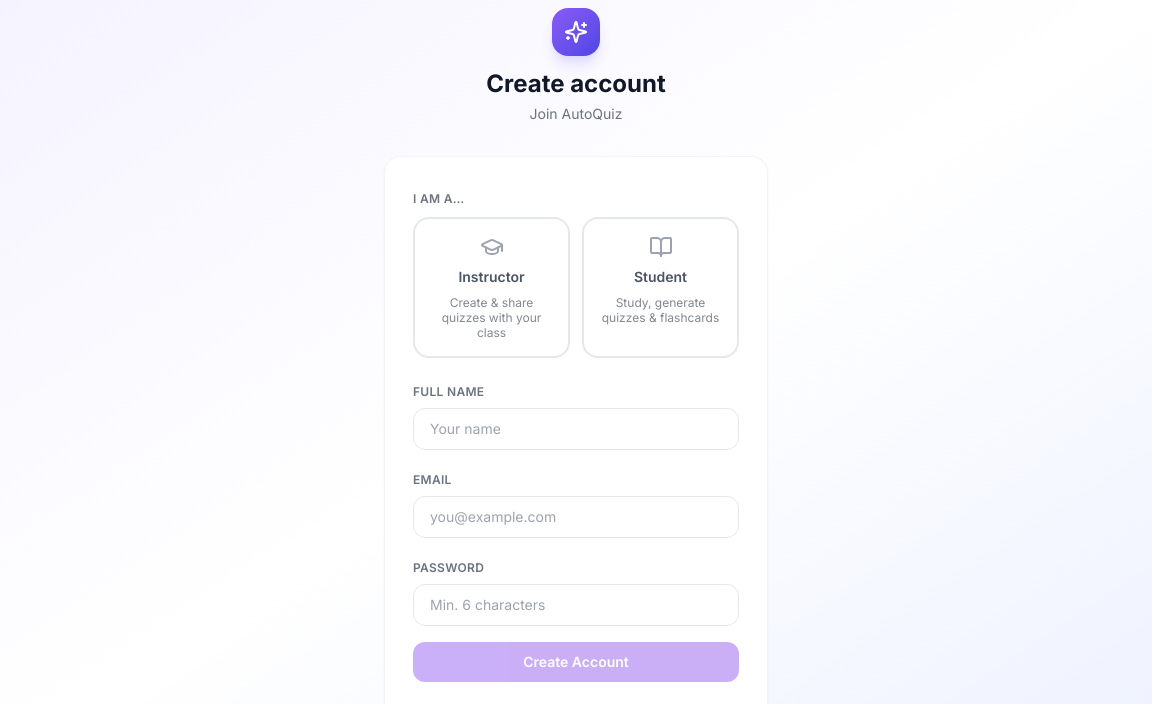
Scenario: Register › AC-1.1.4: displays error message when email is already registered
Click the button "Instructor Create & share quizzes with your class": (492, 288) [413,217,570,358]
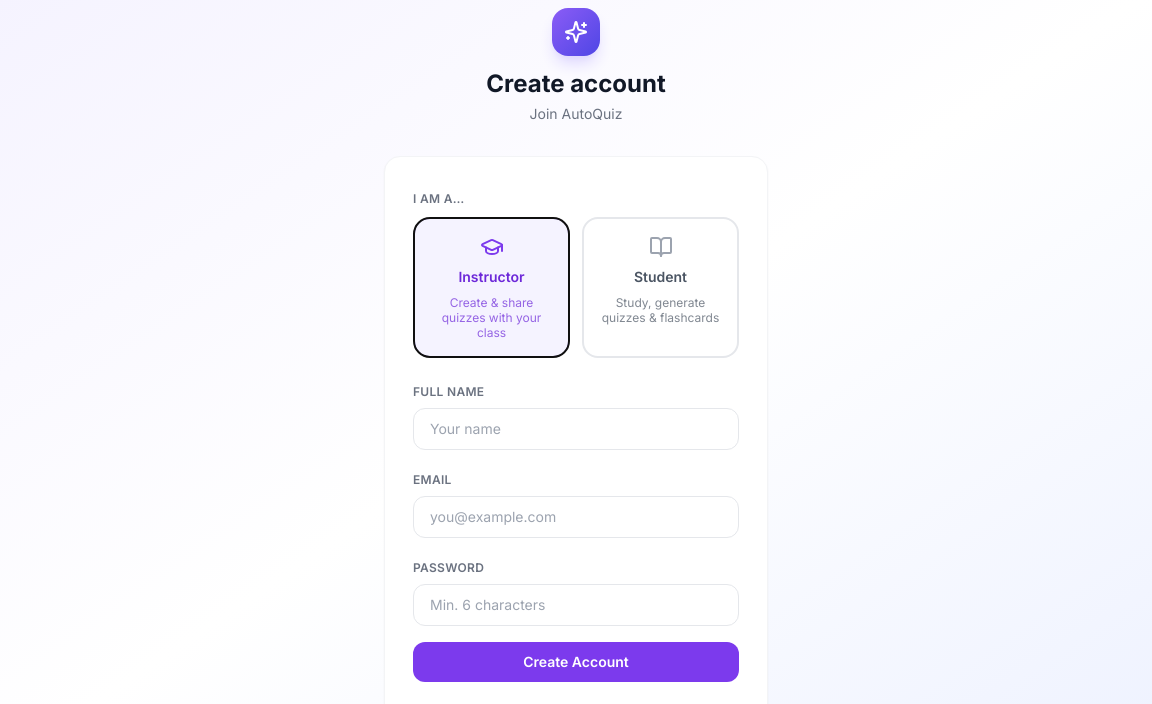
In the field with placeholder "Your name": (576, 429) [413,408,739,450], type "Test User"
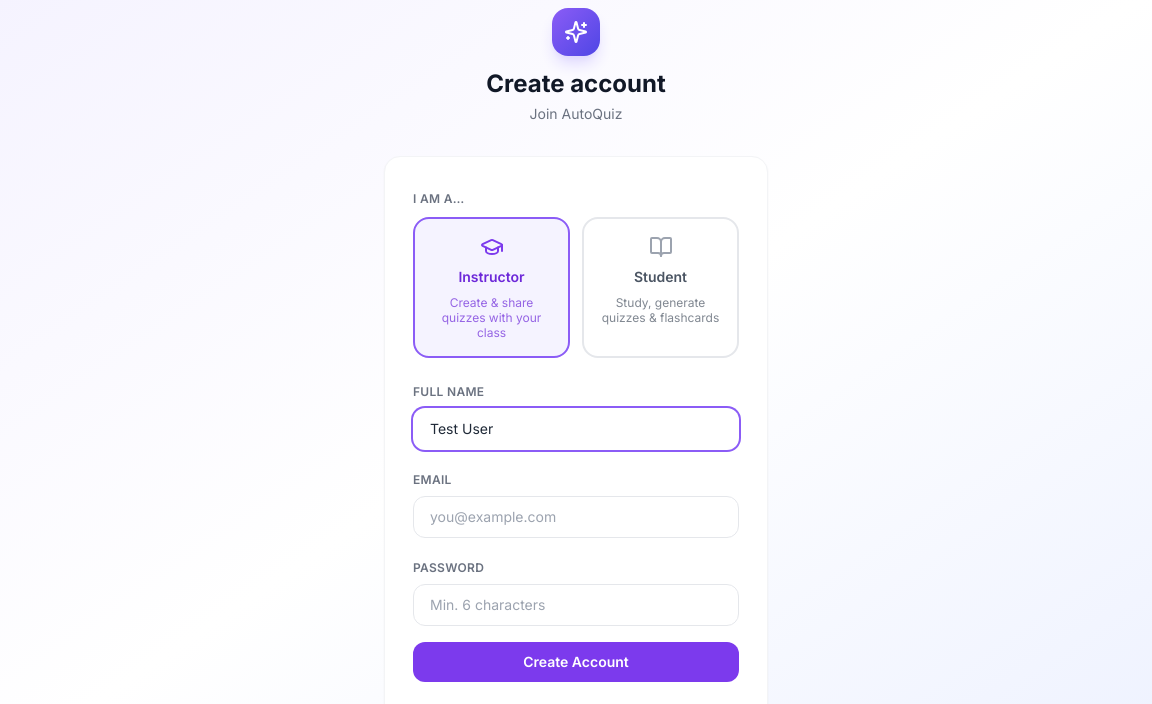
In the field with placeholder "you@example.com": (576, 517) [413,496,739,538], type "existing@example.com"
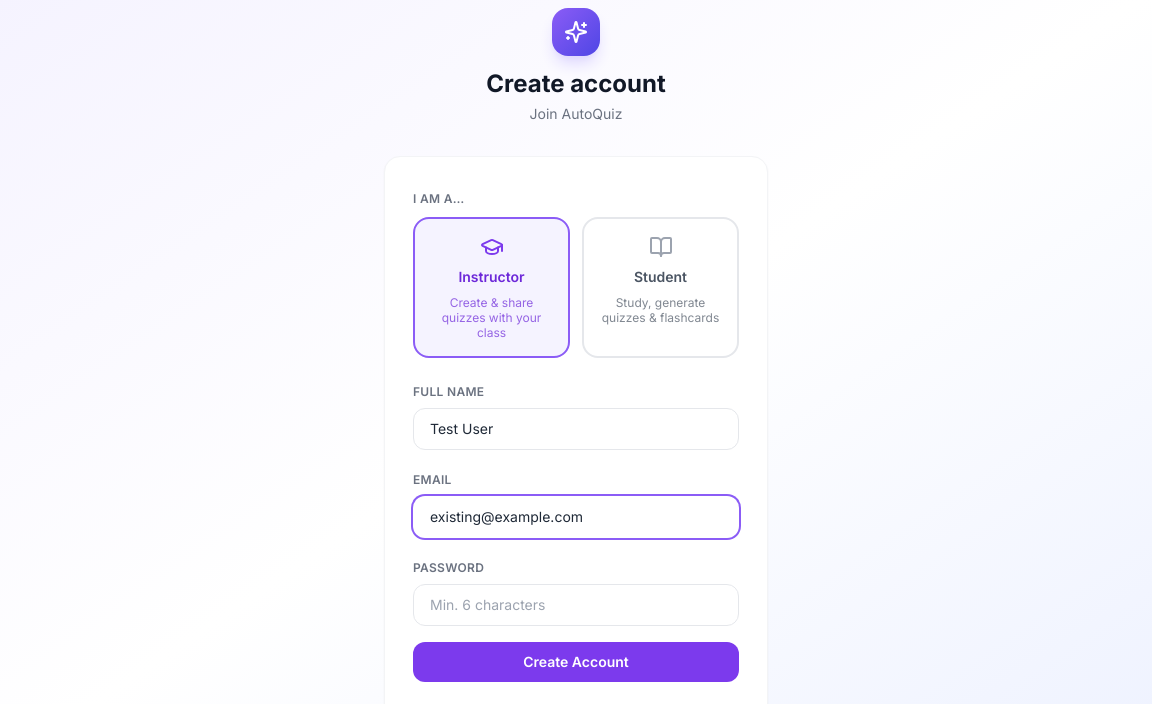
In the password field with placeholder "Min. 6 characters": (576, 605) [413,584,739,626], type "password123"
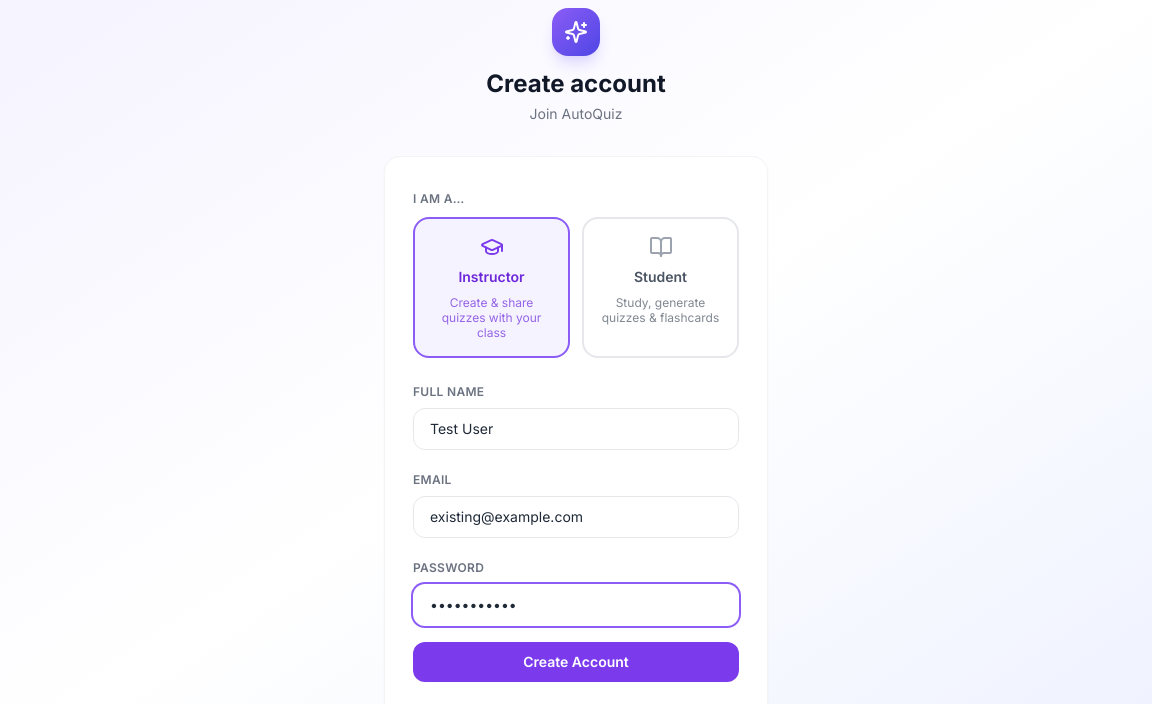
Click the button "Create Account": (576, 662) [413,642,739,682]
(page scrolled)
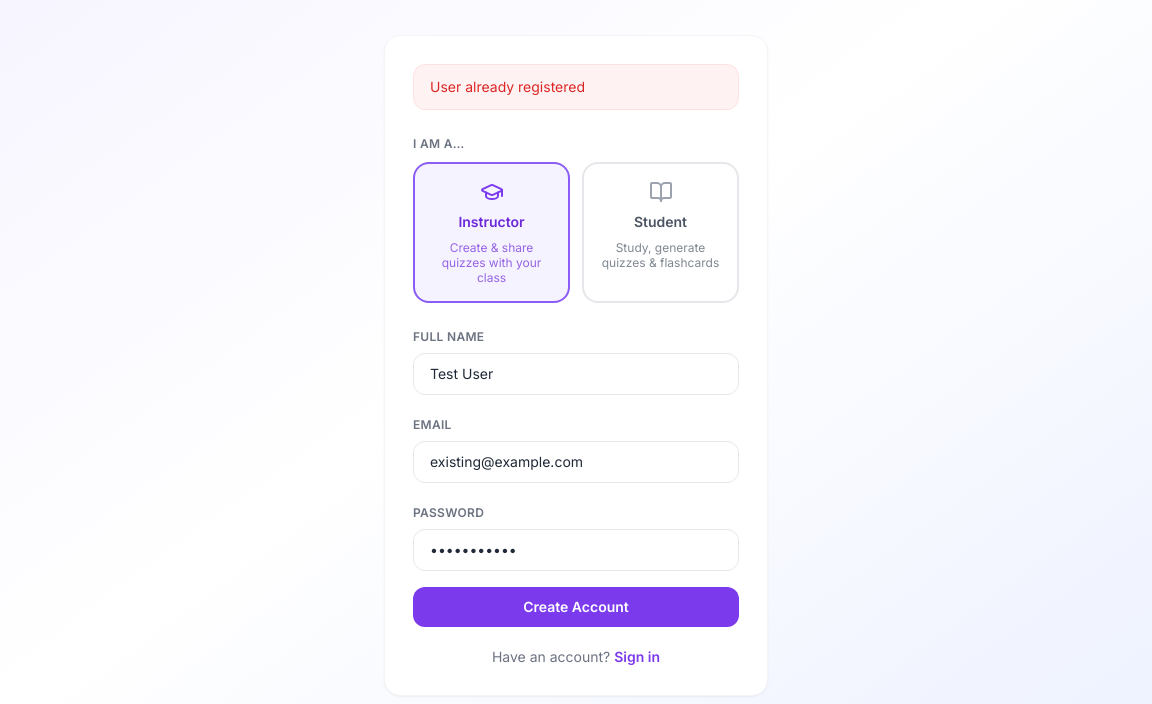
Expected: the button "Create Account" is shown, [413,587,739,627]
Expected: the text "User already registered" is shown, [413,64,739,110]
